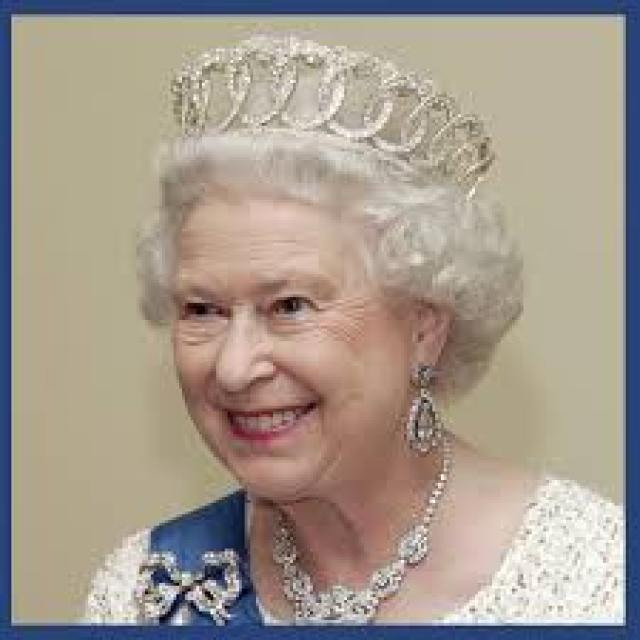Earring: (381, 361, 458, 462)
